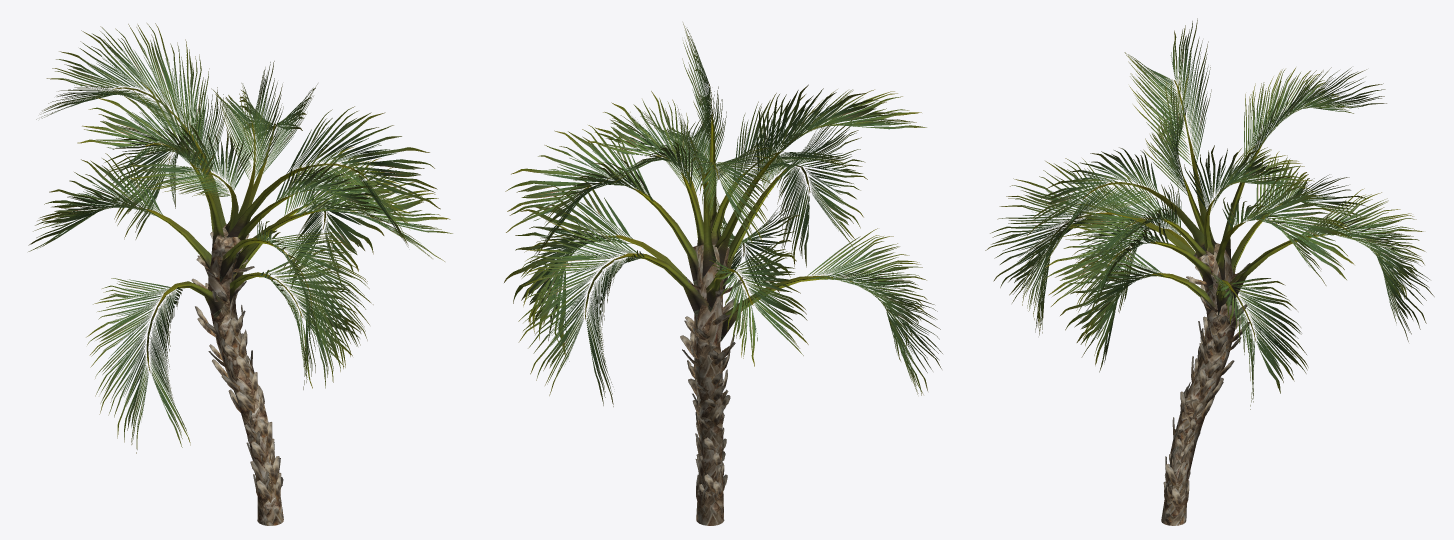
File: PalmTree.glb
3 renders of one model, left to right at view 1: azimuth 30°, elevation 25°; view 2: azimuth 150°, elevation 25°; view 3: azimuth 270°, elevation 25°, orthographic. The views are drawn at different scales.
Visible parts, largest first — view 1: Leaves, Tree_3, Trunk, Tree_2_Tree_2Mat_0; view 2: Leaves, Tree_3, Trunk, Tree_2_Tree_2Mat_0; view 3: Leaves, Tree_3, Trunk, Tree_2_Tree_2Mat_0.
Part boxes in pixels (bbox=[...]): Leaves: bbox=[28, 23, 452, 453]; Tree_3: bbox=[140, 117, 320, 317]; Trunk: bbox=[208, 223, 283, 525]; Tree_2_Tree_2Mat_0: bbox=[191, 232, 283, 502]; Leaves: bbox=[504, 23, 942, 406]; Tree_3: bbox=[605, 114, 839, 341]; Trunk: bbox=[693, 244, 729, 525]; Tree_2_Tree_2Mat_0: bbox=[680, 277, 743, 505]; Leaves: bbox=[985, 18, 1434, 409]; Tree_3: bbox=[1096, 134, 1326, 319]; Trunk: bbox=[1161, 243, 1237, 525]; Tree_2_Tree_2Mat_0: bbox=[1163, 263, 1250, 506].
Bounding box in the file's own units: 1.69 × 2.01 × 1.92.
4 materials, 4 textured.
